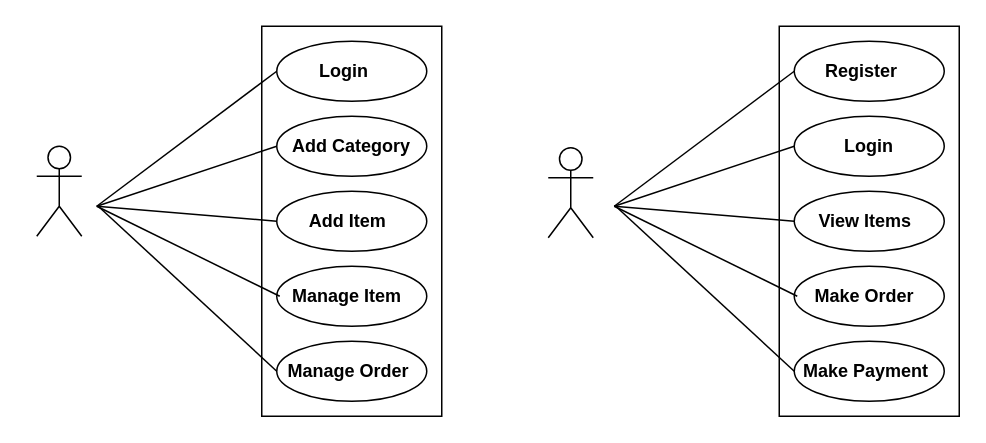
The diagram is 986 pixels wide and 443 high, and some of its shapes have lost their labels. Here are the shapes that lost their labels. From the top down, the centre of each, then its label:
At [58,190]: "Admin".
At [570,192]: "User".
